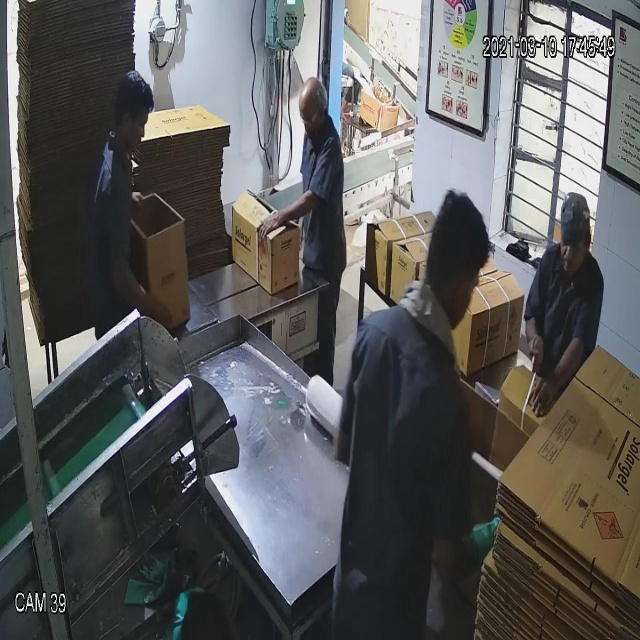Sin_guantes: (244, 167, 324, 260), (107, 240, 182, 328), (533, 321, 596, 420)
